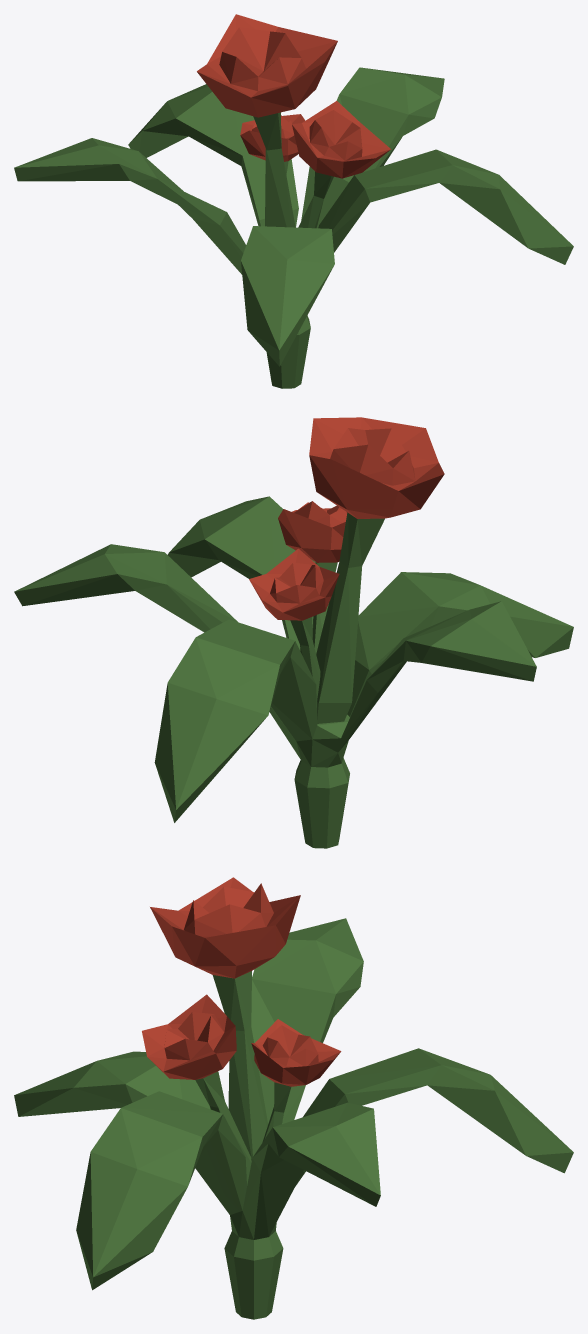
The model's file is SM_Env_Plant_05.gltf.
3 renders of one model, top to bottom at view 1: azimuth 30°, elevation 25°; view 2: azimuth 150°, elevation 25°; view 3: azimuth 270°, elevation 25°, orthographic. The views are drawn at different scales.
Parts seen in each view (by area): view 1: SM_Env_Plant_05; view 2: SM_Env_Plant_05; view 3: SM_Env_Plant_05.
Boxes of the visible parts, <box> form: SM_Env_Plant_05: <box>14,14,573,388</box>; SM_Env_Plant_05: <box>14,417,573,848</box>; SM_Env_Plant_05: <box>14,877,573,1319</box>.
Bounding box in the file's own units: 0.99 × 0.7703 × 0.9649.
1 material, 1 textured.
